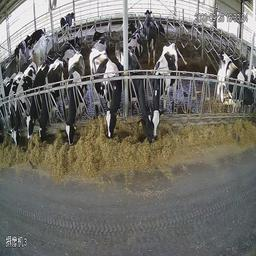cow: (114, 37, 158, 148), (152, 37, 184, 160), (89, 43, 120, 165), (216, 50, 254, 126), (63, 41, 84, 165), (39, 43, 60, 156), (14, 52, 34, 161), (4, 61, 19, 155), (141, 6, 159, 55), (31, 34, 53, 62), (9, 30, 29, 57), (87, 25, 107, 52), (60, 9, 77, 39)
